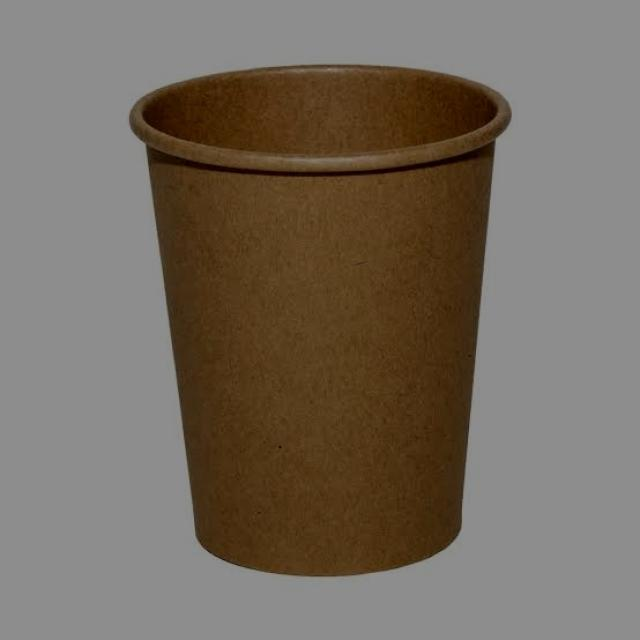paper: (121, 46, 522, 582)
